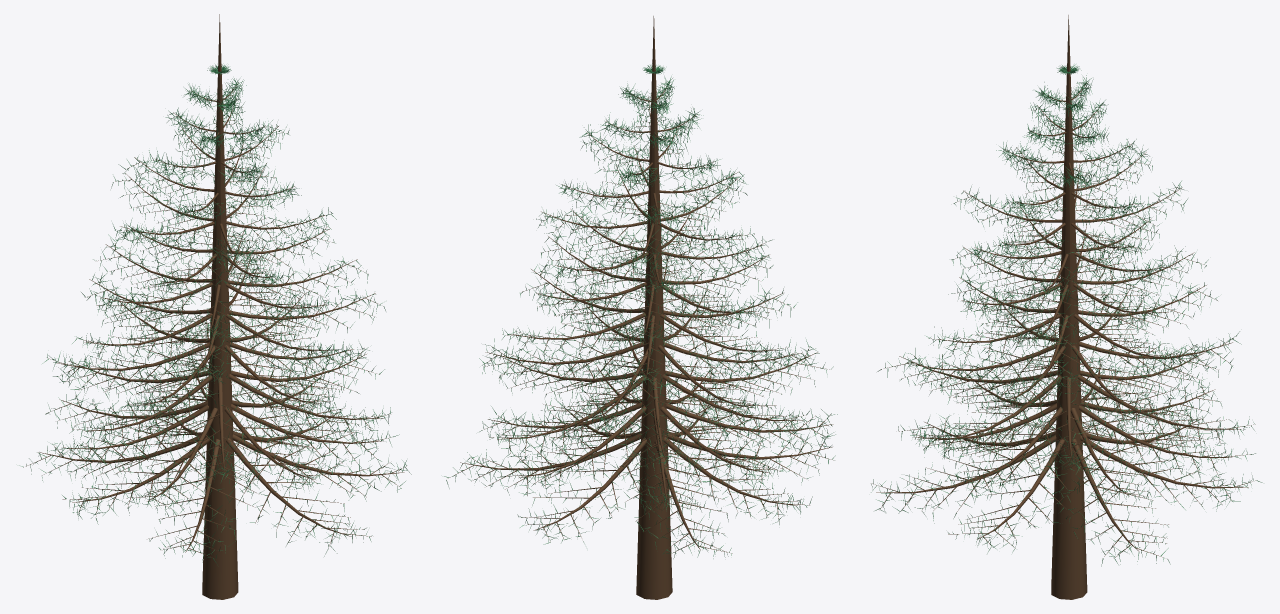
File: spruce.glb
The picture shows the model from 3 angles, left to right: view 1: azimuth 30°, elevation 25°; view 2: azimuth 150°, elevation 25°; view 3: azimuth 270°, elevation 25°; orthographic projection.
Visible parts, largest first — view 1: Ствол + ветви · 1 draw call, Трёхгранные конусы (хвоя) · 1 draw call; view 2: Ствол + ветви · 1 draw call, Трёхгранные конусы (хвоя) · 1 draw call; view 3: Ствол + ветви · 1 draw call, Трёхгранные конусы (хвоя) · 1 draw call.
Part boxes in pixels (x1,y1,x2,y2): Ствол + ветви · 1 draw call: (23,14,406,599); Трёхгранные конусы (хвоя) · 1 draw call: (19,64,411,564); Ствол + ветви · 1 draw call: (448,16,833,599); Трёхгранные конусы (хвоя) · 1 draw call: (444,65,837,558); Ствол + ветви · 1 draw call: (872,15,1255,599); Трёхгранные конусы (хвоя) · 1 draw call: (871,64,1262,566).
Bounding box in the file's own units: 4.73 × 8.2 × 5.1.
